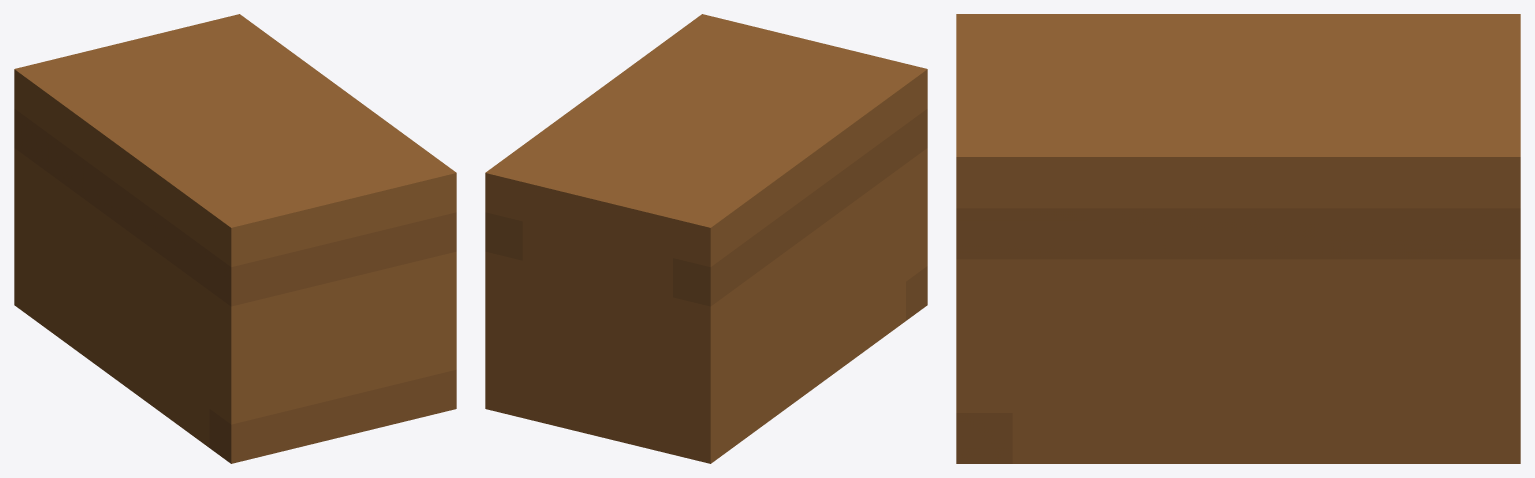
Rendered from body.obj.
3 views of the same model, side by side, from view 1: azimuth 30°, elevation 25°; view 2: azimuth 150°, elevation 25°; view 3: azimuth 270°, elevation 25° (orthographic). The views are drawn at different scales.
Bounding box in the file's own units: 0.6 × 0.6 × 1.
Materials: 1 (1 with a texture image).
